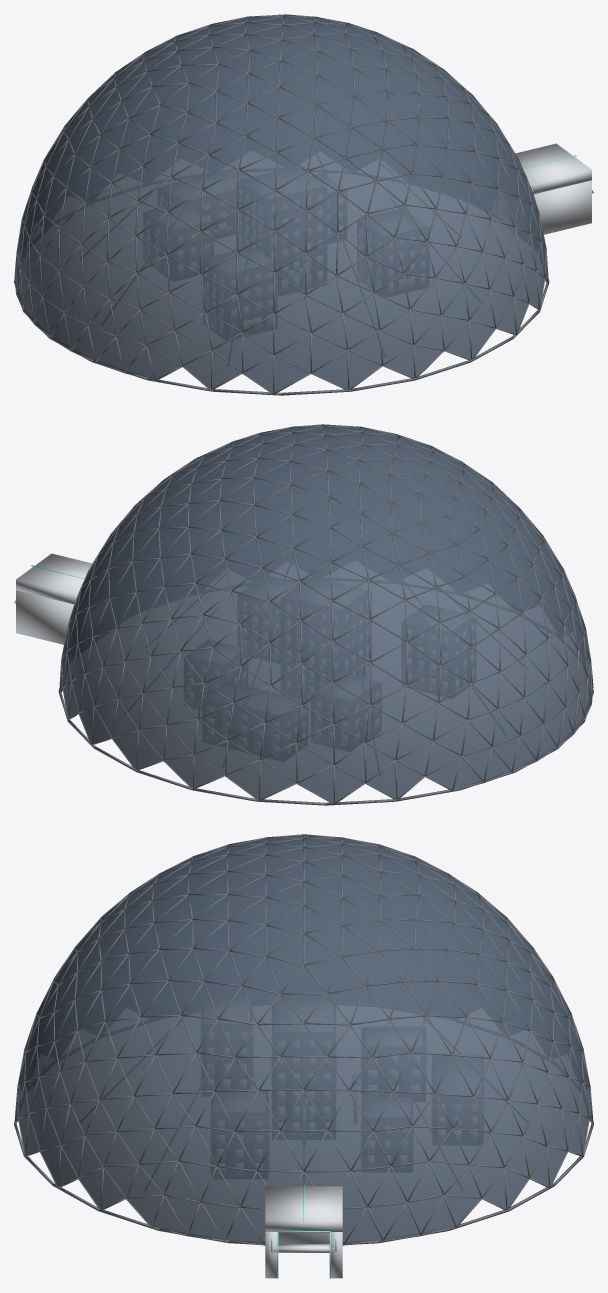
Rendered from city_dome.gltf.
3 views of the same model, one above another, from view 1: azimuth 30°, elevation 25°; view 2: azimuth 150°, elevation 25°; view 3: azimuth 270°, elevation 25° (orthographic). The views are drawn at different scales.
Parts seen in each view (by area): view 1: DomeGlass, DomeFrame, TrimSilver; view 2: DomeGlass, DomeFrame, TrimSilver; view 3: DomeGlass, DomeFrame, TrimSilver.
Part boxes in pixels (box(x1,y1,x2,y2)): DomeGlass: box(15, 15, 547, 392); DomeFrame: box(14, 14, 549, 395); TrimSilver: box(515, 143, 593, 234); DomeGlass: box(60, 425, 592, 802); DomeFrame: box(58, 424, 593, 805); TrimSilver: box(14, 553, 92, 644); DomeGlass: box(15, 835, 592, 1243); DomeFrame: box(14, 834, 593, 1245); TrimSilver: box(265, 1186, 342, 1278).
Bounding box in the file's own units: 103 × 46.09 × 90.35.
